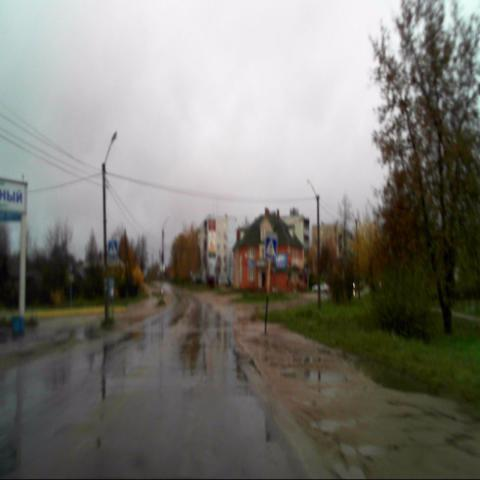5_19_1: (264, 237, 277, 259), (107, 240, 118, 258)
